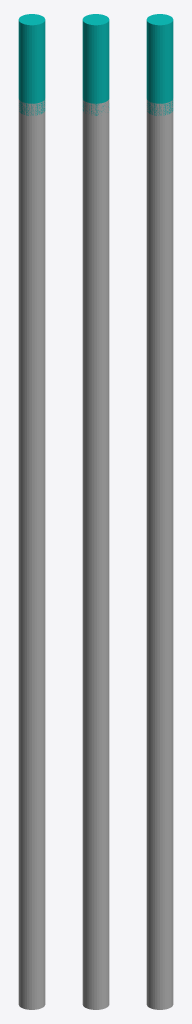
3 views of the same model, side by side, from view 1: azimuth 90°, elevation 25°; view 2: azimuth 150°, elevation 25°; view 3: azimuth 270°, elevation 25° (orthographic).
Parts seen in each view (by area): view 1: Long_Electrode_Body.001, Long_Electrode_Tip; view 2: Long_Electrode_Body.001, Long_Electrode_Tip; view 3: Long_Electrode_Body.001, Long_Electrode_Tip.
Boxes of the visible parts, x1,y1,x2,y2 form: Long_Electrode_Body.001: (18,99,45,1009); Long_Electrode_Tip: (18,14,45,115); Long_Electrode_Body.001: (82,99,109,1009); Long_Electrode_Tip: (82,14,109,115); Long_Electrode_Body.001: (146,99,173,1009); Long_Electrode_Tip: (146,14,173,115).
Bounding box in the file's own units: 0.4 × 16.3 × 0.4.
